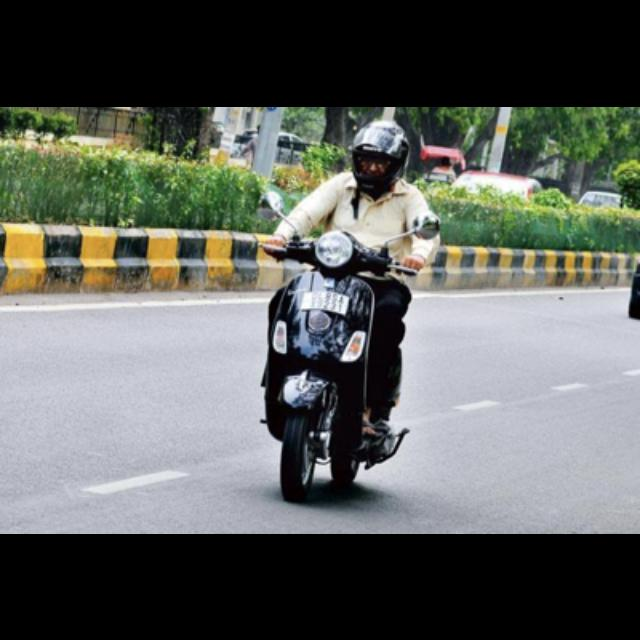With Helmet: (345, 116, 411, 192)
